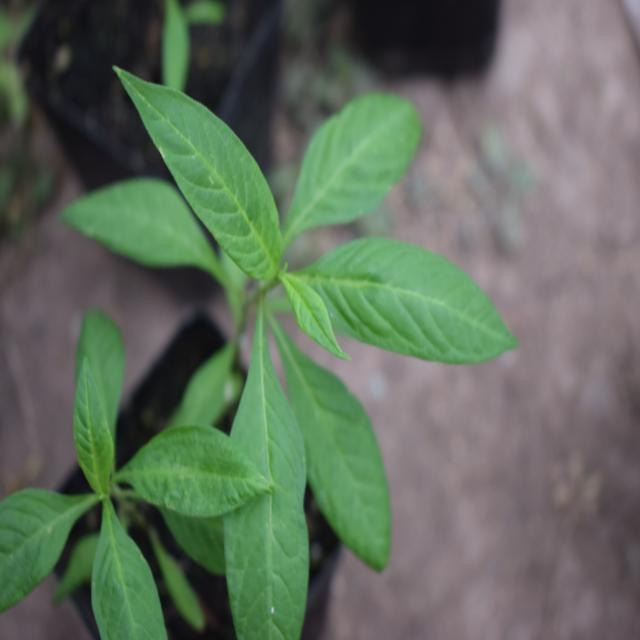white_smart_weed: (124, 44, 472, 571)
